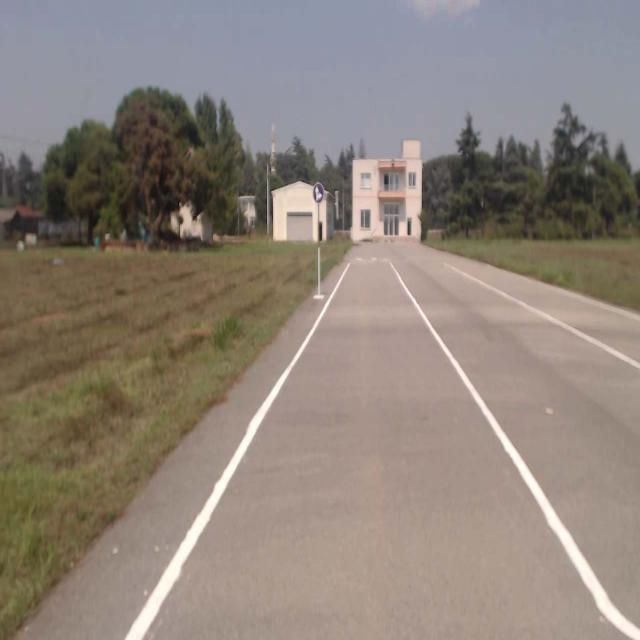ilerisag: (314, 183, 324, 202)
